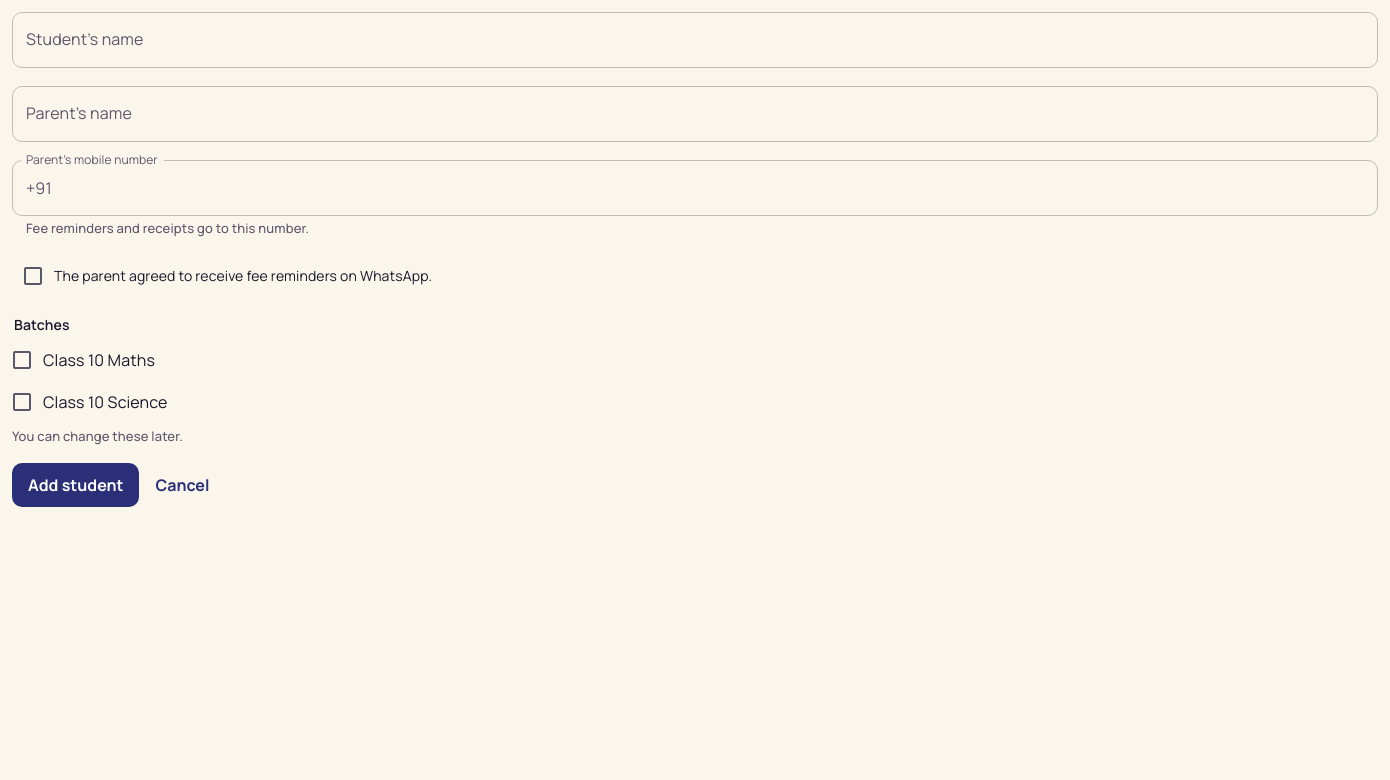
Test: StudentForm › shows the server's message for a field, or for the whole form
This screenshot has width=1390, height=780.
Step 1. Type "Aarav Sharma" into the field labelled "Student’s name" → (695, 40), box [12,12,1378,68]
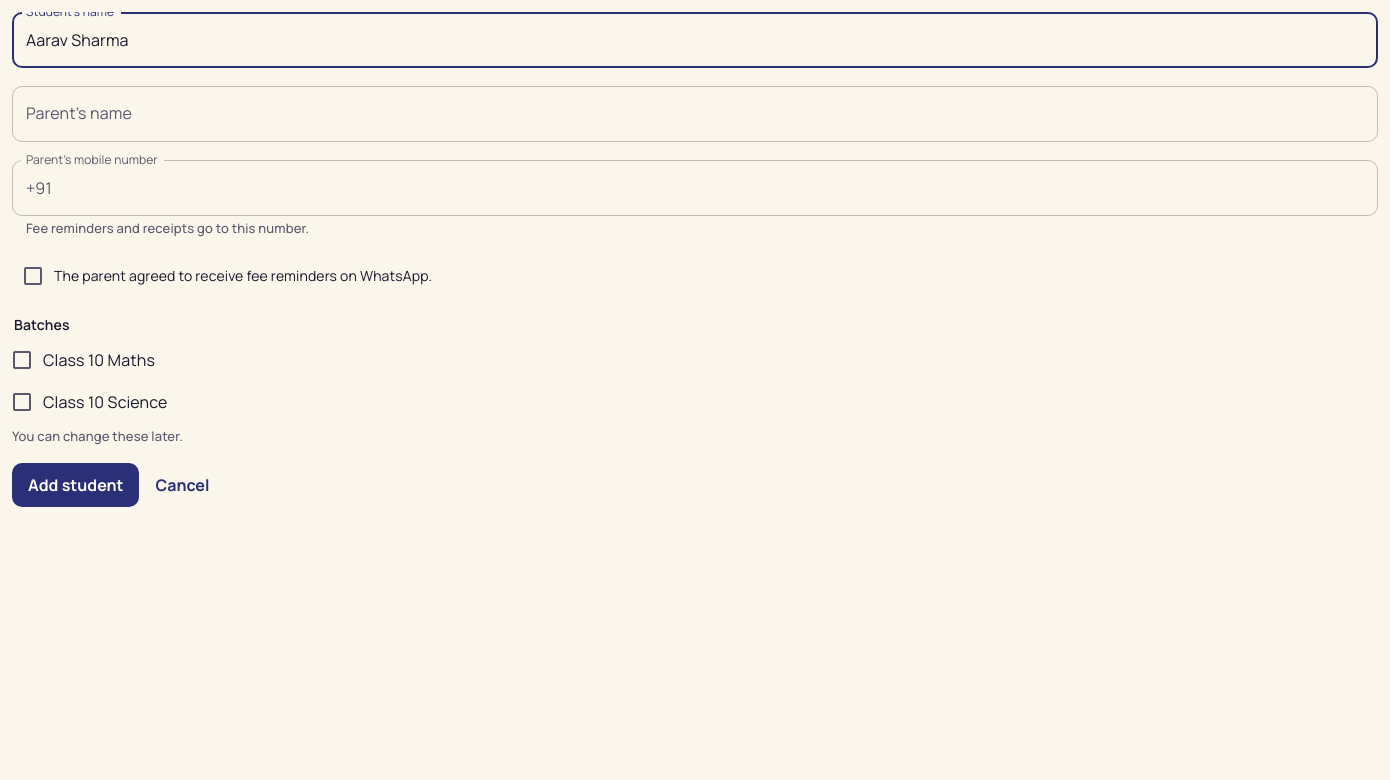
Step 2. Type "Neha Sharma" into the field labelled "Parent’s name" → (695, 114), box [12,86,1378,142]
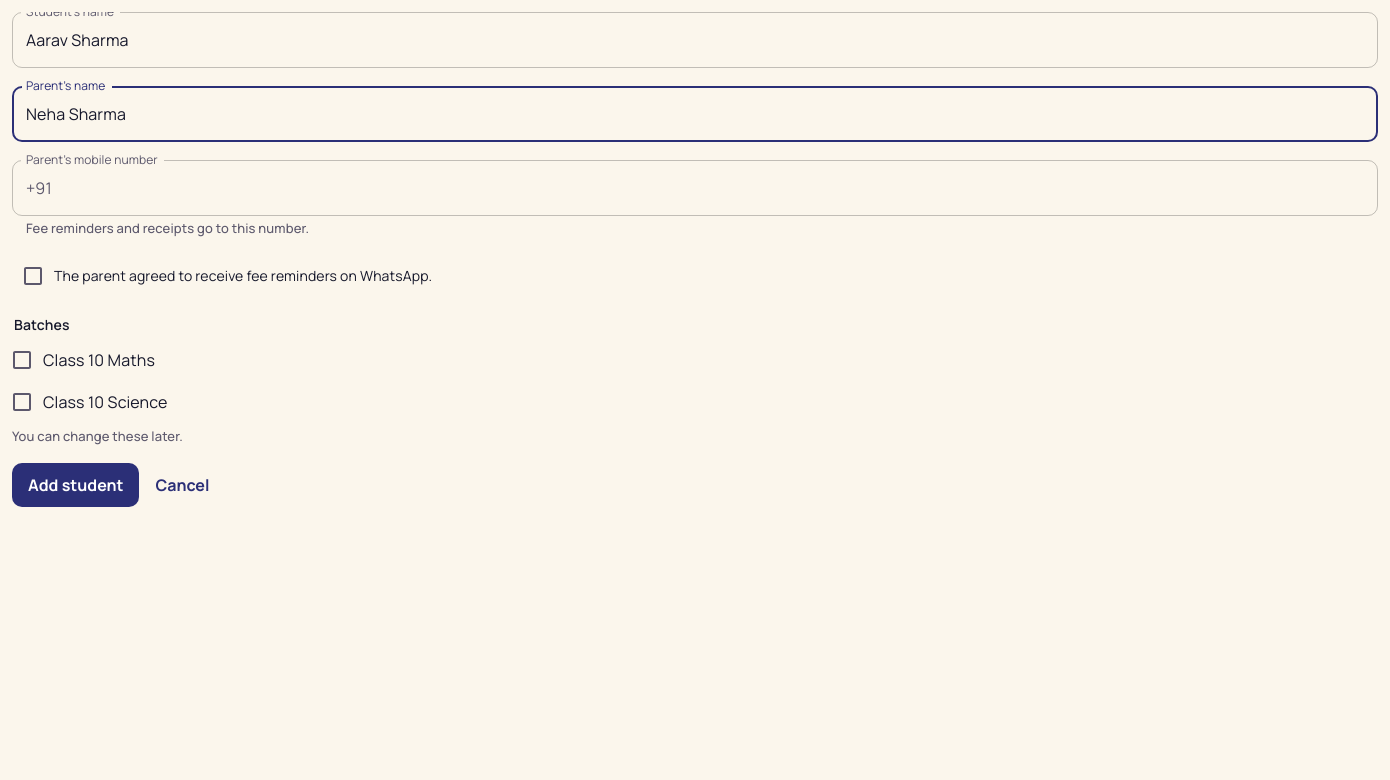
Step 3. Type "98765 43210" into the field labelled "Parent’s mobile number" → (719, 188), box [60,160,1378,216]
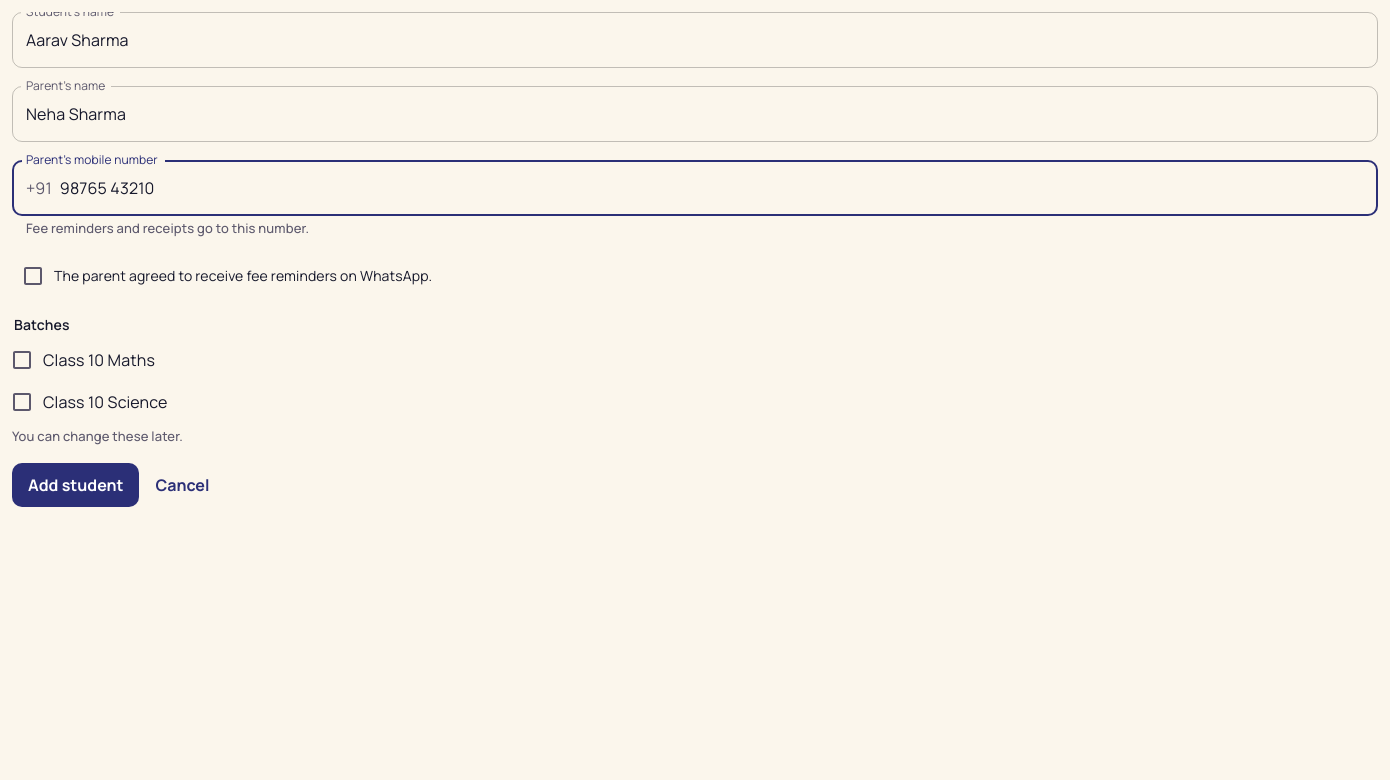
Step 4. Click the button "Add student" → click(76, 485), box [12,463,140,507]
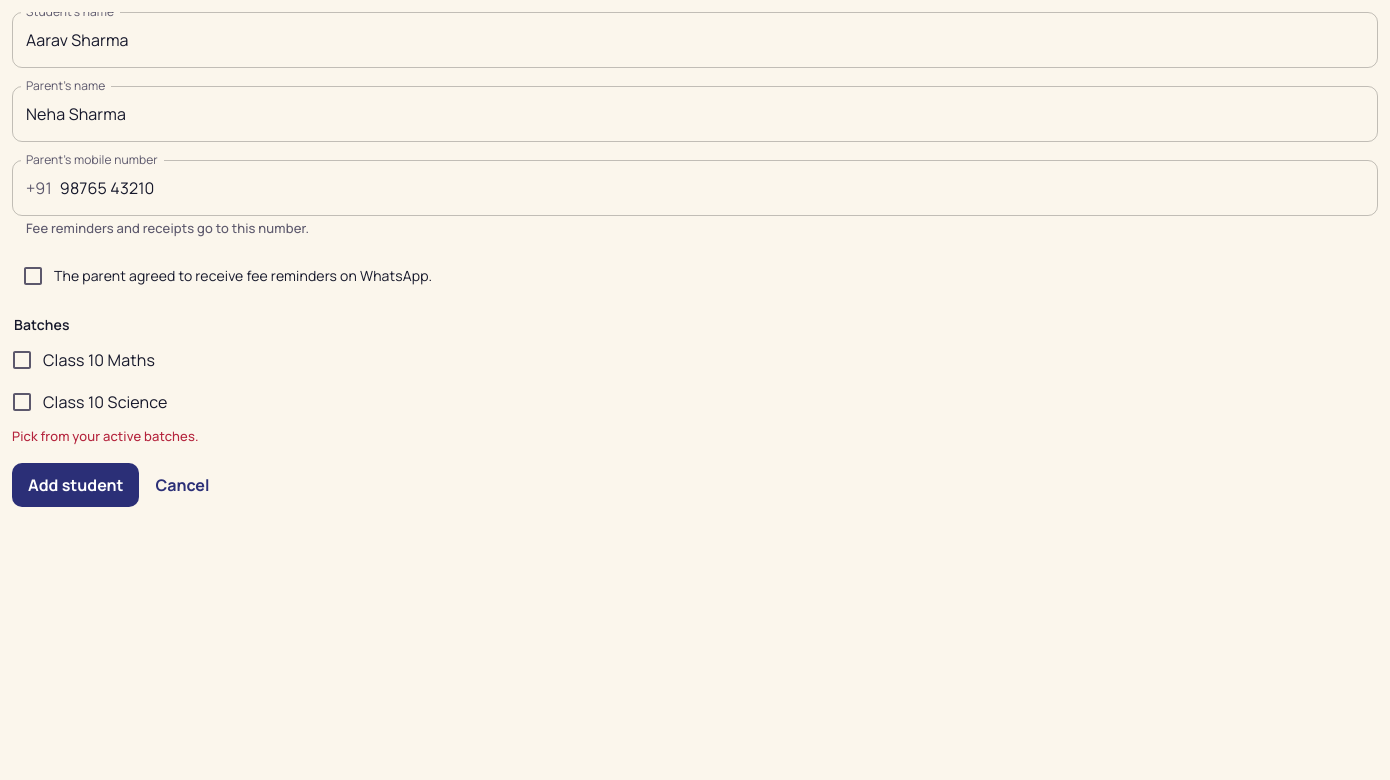
Expected: the text "Pick from your active batches." is shown, [12,427,199,445]
Step 5. Click the button "Add student" → click(76, 485), box [12,463,140,507]
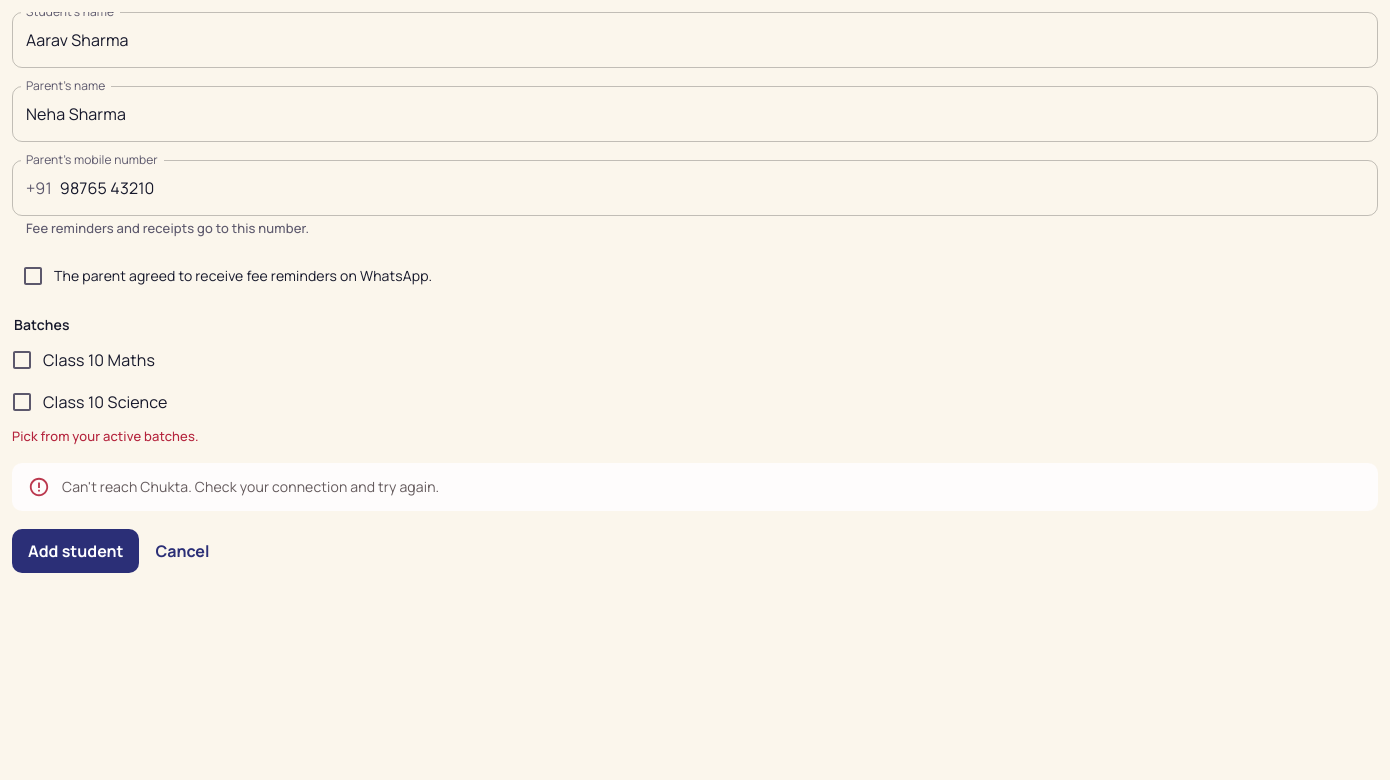
Expected: the message shows "Can't reach Chukta.", [62,477,439,496]
